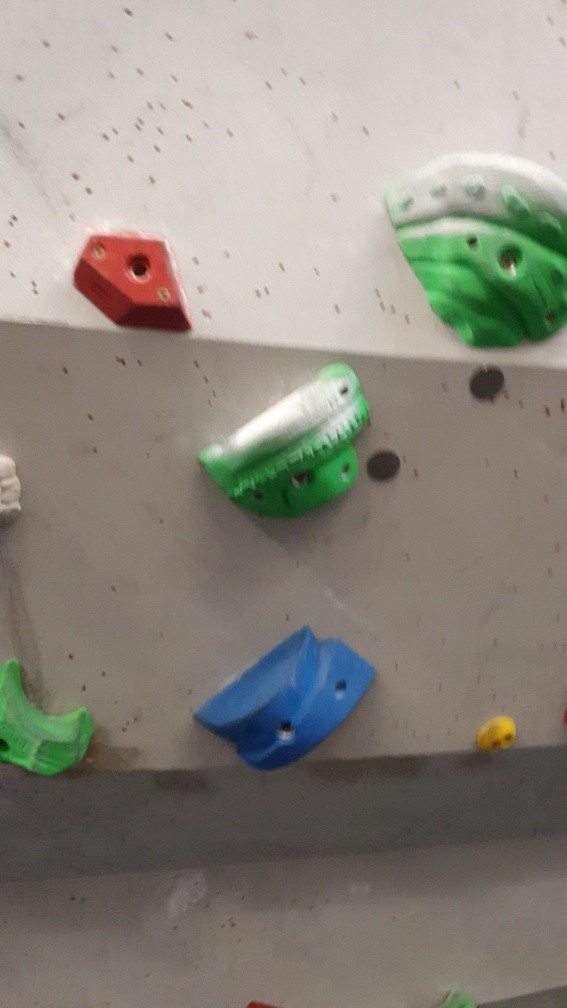Crimp: (70, 222, 201, 347)
Hand Start: (471, 361, 510, 411), (362, 449, 402, 489)
Jug: (380, 151, 567, 351), (195, 363, 376, 521), (1, 653, 102, 780)
Pinch: (187, 618, 380, 775)
